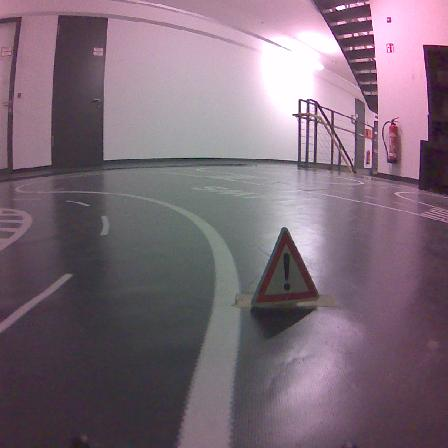ATTENTION: (252, 228, 318, 306)
